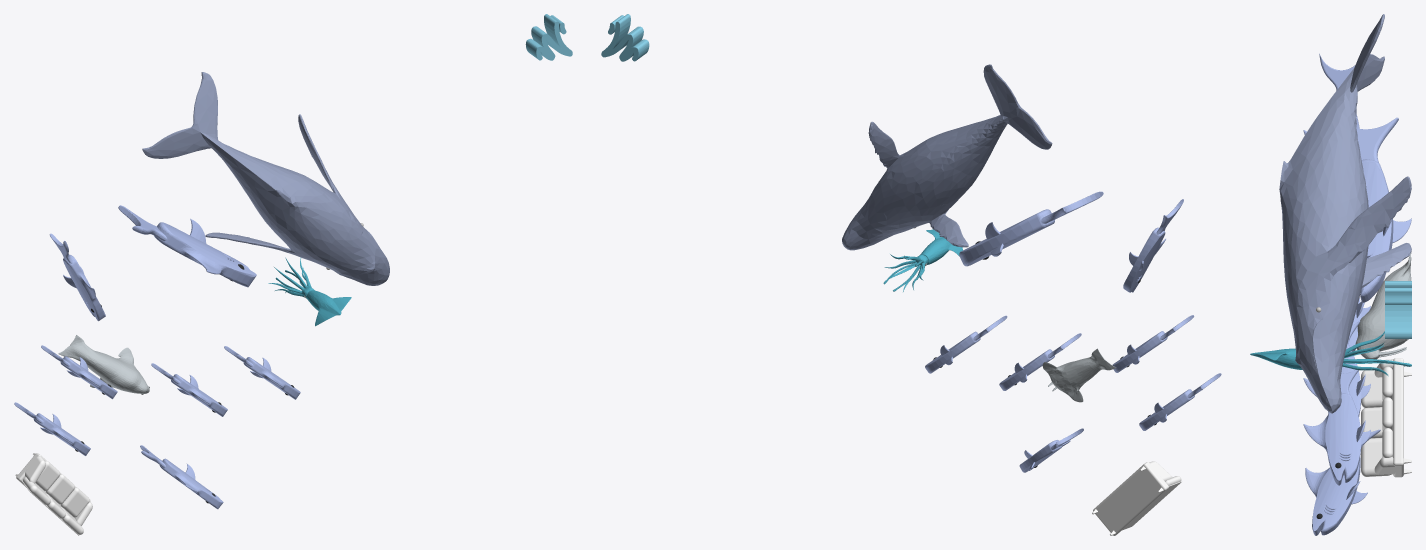
Rendered from tinker.obj.
3 renders of one model, left to right at view 1: azimuth 30°, elevation 25°; view 2: azimuth 150°, elevation 25°; view 3: azimuth 270°, elevation 25°, orthographic. The views are drawn at different scales.
Visible parts, largest first — view 1: group_0_9806015, group_0_11452141, group_0_16448250, group_0_12568524, group_0_5157063, group_0_8768998; view 2: group_0_9806015, group_0_11452141, group_0_16448250, group_0_12568524, group_0_8768998, group_0_5157063; view 3: group_0_9806015, group_0_11452141, group_0_16448250, group_0_12568524, group_0_8768998, group_0_5157063.
Part boxes in pixels (<box>): group_0_9806015: <box>142,72,389,285</box>; group_0_11452141: <box>14,205,300,509</box>; group_0_16448250: <box>15,453,92,535</box>; group_0_12568524: <box>58,335,149,394</box>; group_0_5157063: <box>268,257,351,326</box>; group_0_8768998: <box>525,14,572,60</box>; group_0_9806015: <box>842,64,1052,250</box>; group_0_11452141: <box>925,191,1221,472</box>; group_0_16448250: <box>1092,461,1181,535</box>; group_0_12568524: <box>1042,348,1115,402</box>; group_0_8768998: <box>601,14,649,61</box>; group_0_5157063: <box>883,229,962,291</box>; group_0_9806015: <box>1279,14,1411,413</box>; group_0_11452141: <box>1303,53,1411,535</box>; group_0_16448250: <box>1361,358,1411,477</box>; group_0_12568524: <box>1355,253,1411,359</box>; group_0_8768998: <box>1385,281,1411,338</box>; group_0_5157063: <box>1250,331,1411,376</box>.
Size of the model in its own units: 313 by 223 by 60.3.
